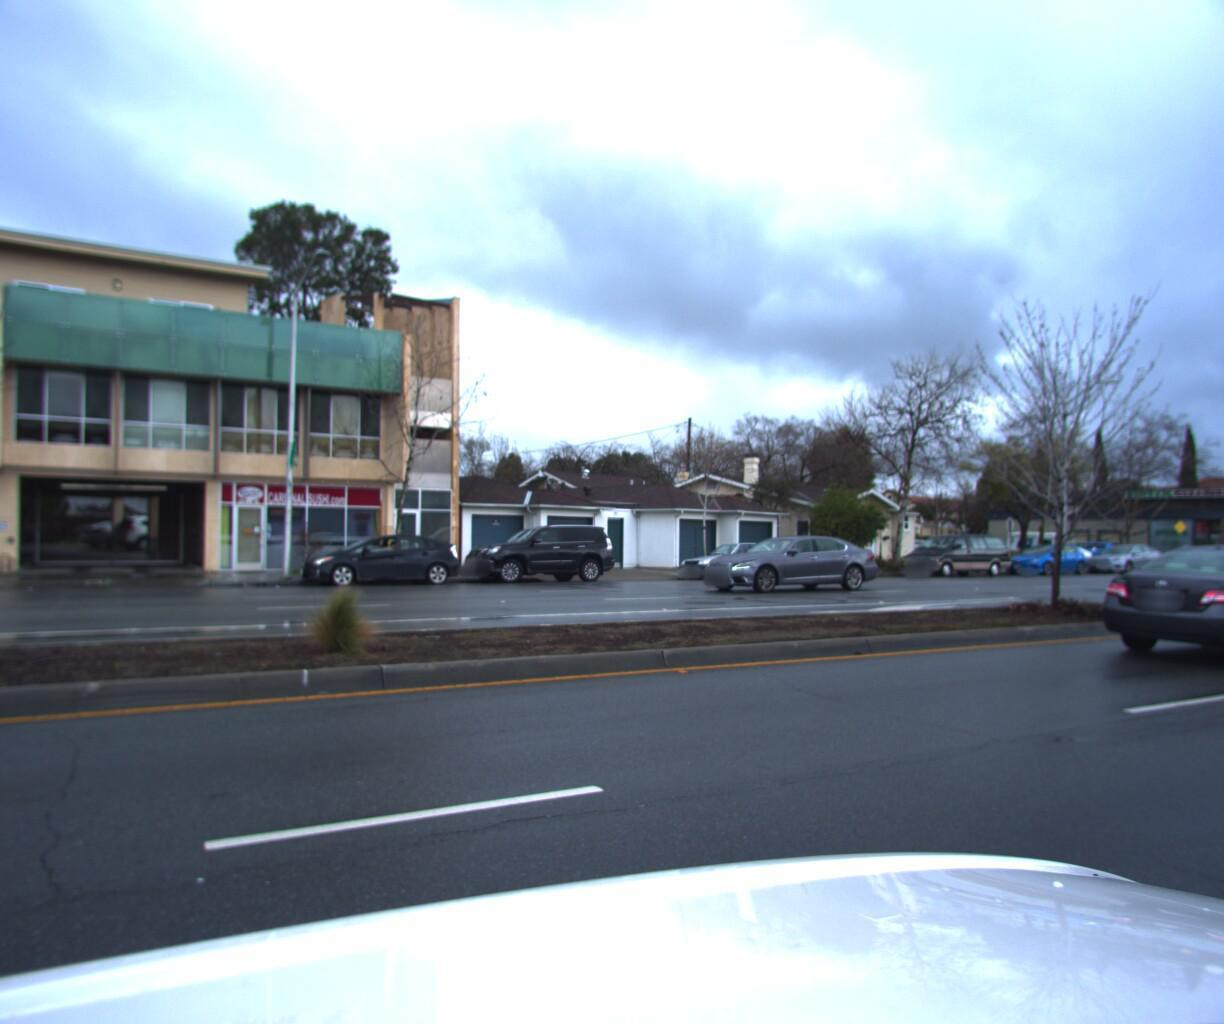car: (1082, 529, 1224, 664), (684, 528, 881, 592), (454, 522, 614, 589), (287, 533, 462, 592), (891, 523, 1005, 574), (668, 534, 792, 579), (991, 532, 1085, 568), (1072, 532, 1159, 568), (1041, 529, 1116, 557)
other_vehicle: (995, 519, 1087, 559)
